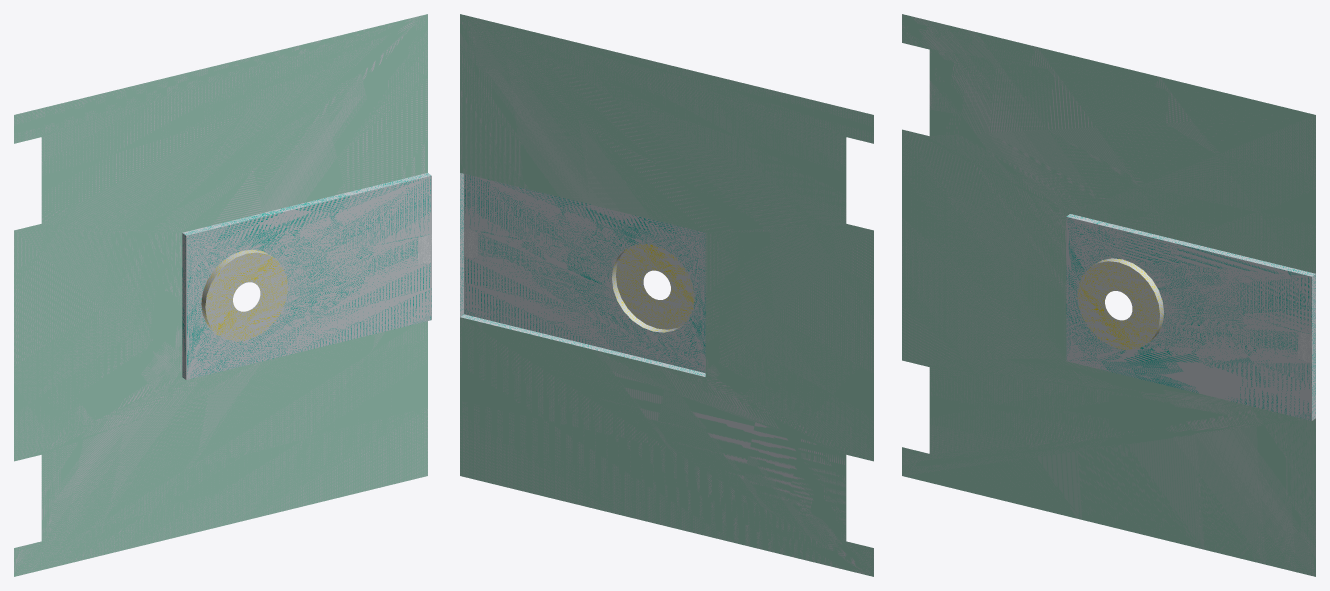
Rendered from board.dae.
The picture shows the model from 3 angles, left to right: view 1: azimuth 30°, elevation 25°; view 2: azimuth 150°, elevation 25°; view 3: azimuth 330°, elevation 25°; orthographic projection.
Visible parts, largest first — view 1: SketchUp.643, SketchUp.640, SketchUp.639; view 2: SketchUp.643, SketchUp.640, SketchUp.639; view 3: SketchUp.643, SketchUp.640, SketchUp.639.
Part boxes in pixels (x1=…): SketchUp.643: x1=14, y1=14, x2=427, y2=576; SketchUp.640: x1=182, y1=173, x2=431, y2=379; SketchUp.639: x1=201, y1=249, x2=287, y2=341; SketchUp.643: x1=460, y1=14, x2=873, y2=576; SketchUp.640: x1=460, y1=173, x2=705, y2=376; SketchUp.639: x1=612, y1=244, x2=694, y2=332; SketchUp.643: x1=902, y1=14, x2=1315, y2=576; SketchUp.640: x1=1066, y1=214, x2=1315, y2=420; SketchUp.639: x1=1077, y1=258, x2=1163, y2=349.
Bounding box in the file's own units: 0.762 × 0.0254 × 0.8128.
